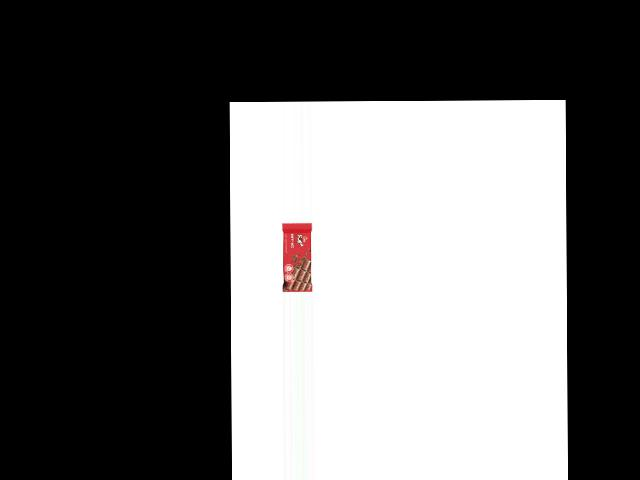chocolate: (281, 221, 312, 292)
